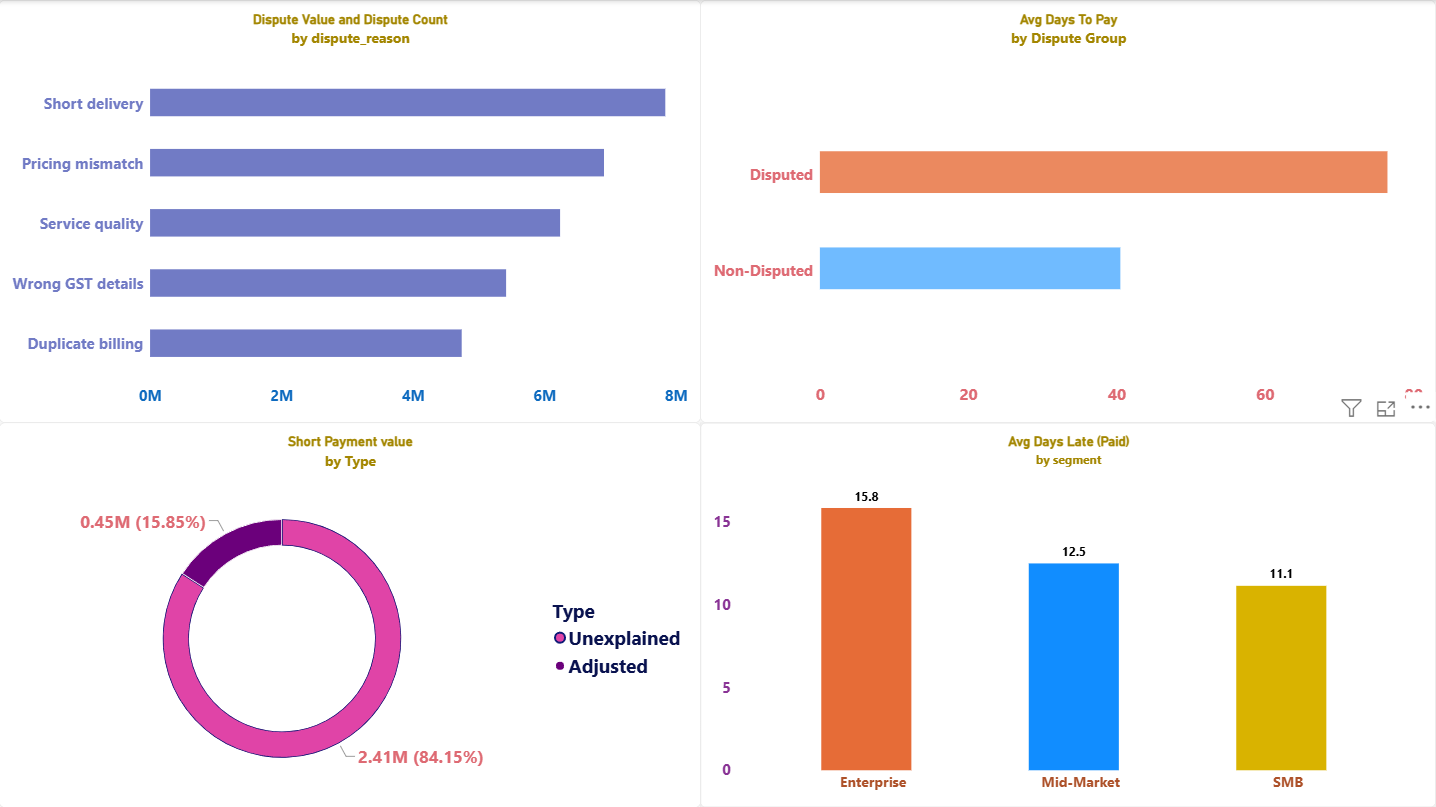

What the dashboard file says about the page in this screenshot:
{"tool":"powerbi","page":{"name":"Dispute & Short Payments ","canvas":[1920,1080],"ordinal":3},"visuals":[{"type":"clusteredBarChart","fields":{"Category":["finance invoices.dispute_reason"],"Y":["finance invoices.Dispute Value"]},"box":[0,0,937.4,564.6],"z":0},{"type":"clusteredBarChart","fields":{"Category":["finance invoices.Dispute Group"],"Y":["finance invoices.Avg Days To Pay"]},"box":[937.4,0,982.6,564.6],"z":1000},{"type":"donutChart","fields":{"Category":["Short type.Type"],"Y":["Short type.Short Payment value"]},"box":[0,564.6,937.4,515.8],"z":2000},{"type":"clusteredColumnChart","fields":{"Category":["finance customers.segment"],"Y":["finance invoices.Avg Days Late (Paid)"]},"box":[937.4,564.6,982.6,515.8],"z":3000}]}

Visuals, with their boxes in screenshot pixels (x1, y1, x2, y2), scaled from the page's 1920x1080 canvas onto the 1436x807 screenshot:
clusteredBarChart - finance invoices.dispute_reason x finance invoices.Dispute Value: (0,0,701,422)
clusteredBarChart - finance invoices.Dispute Group x finance invoices.Avg Days To Pay: (701,0,1435,422)
donutChart - Short type.Type x Short type.Short Payment value: (0,422,701,806)
clusteredColumnChart - finance customers.segment x finance invoices.Avg Days Late (Paid): (701,422,1435,806)
